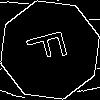F: (25, 25, 77, 66)
